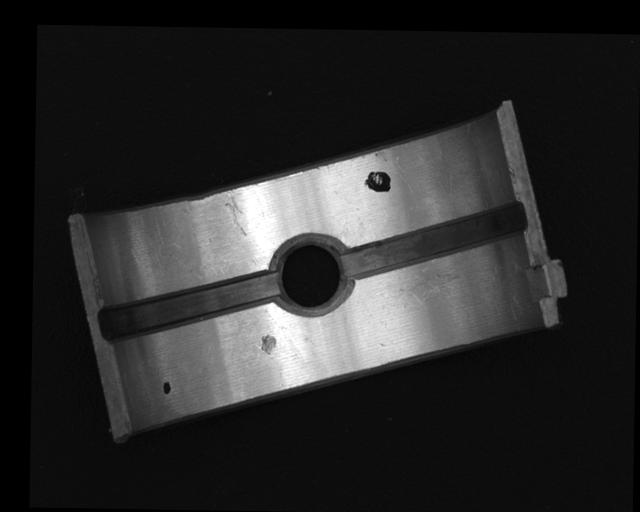blot: (364, 170, 393, 193), (161, 381, 172, 394)
bruise: (260, 333, 276, 356)
gap: (342, 201, 526, 282), (97, 274, 280, 343)
hole: (272, 236, 352, 317)
nick: (224, 190, 248, 237)
scratch: (406, 257, 487, 307)
